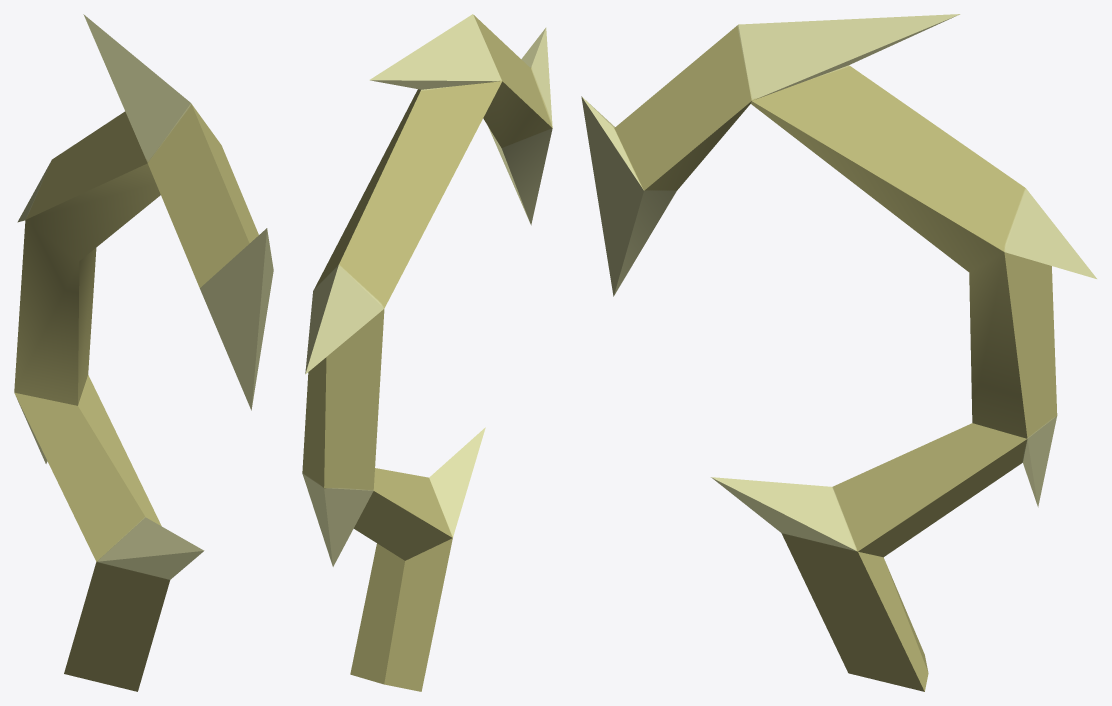
File: hook.fbx
The picture shows the model from 3 angles, left to right: view 1: azimuth 30°, elevation 25°; view 2: azimuth 150°, elevation 25°; view 3: azimuth 270°, elevation 25°; orthographic projection. The views are drawn at different scales.
Visible parts, largest first — view 1: pCylinder1; view 2: pCylinder1; view 3: pCylinder1.
Boxes of the visible parts, x1,y1,x2,y2 form: pCylinder1: (14, 14, 273, 691); pCylinder1: (302, 14, 552, 691); pCylinder1: (581, 14, 1096, 691).
Bounding box in the file's own units: 1.73 × 14.27 × 10.13.
Materials: 1 (1 with a texture image).
